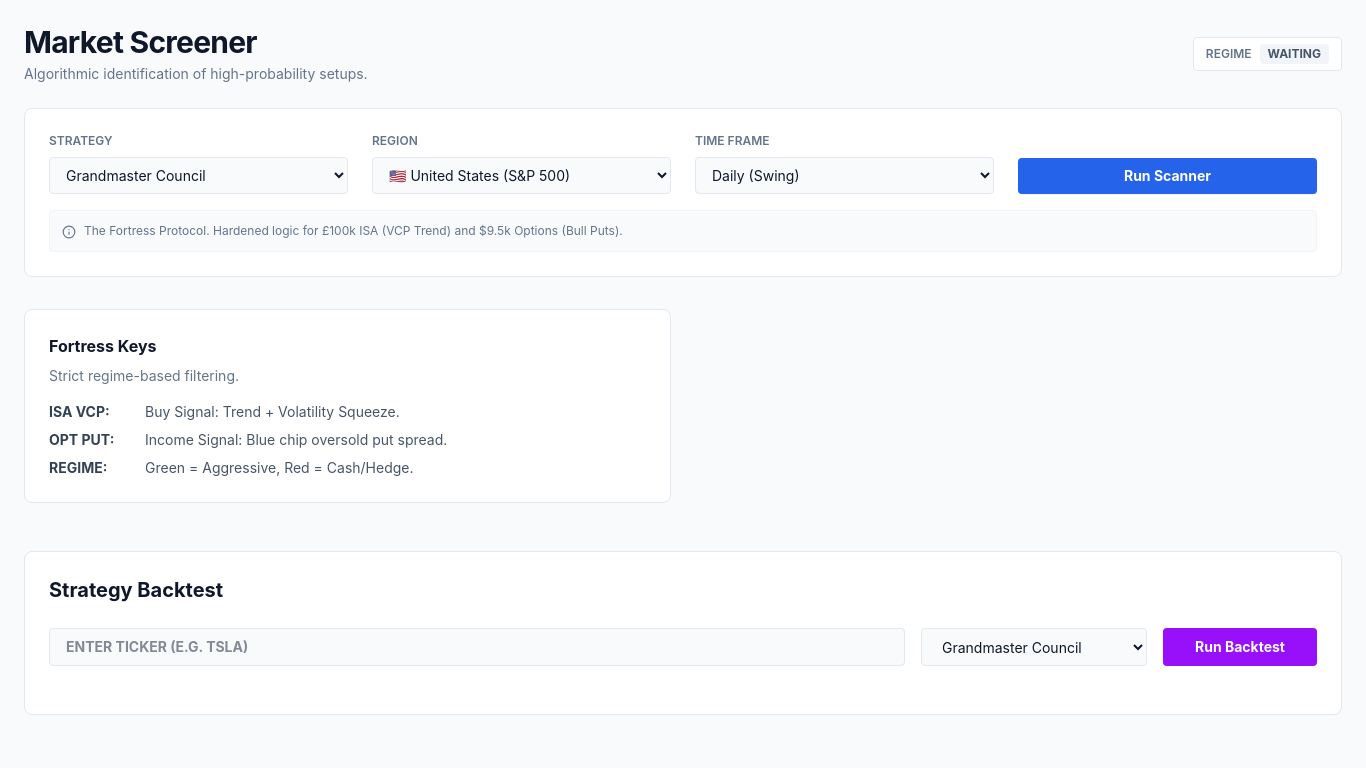
Screener Component › correctly formats UK prices as £ and divides by 100
Click the button "Run Scanner": click(1168, 176) [1018,158,1317,194]
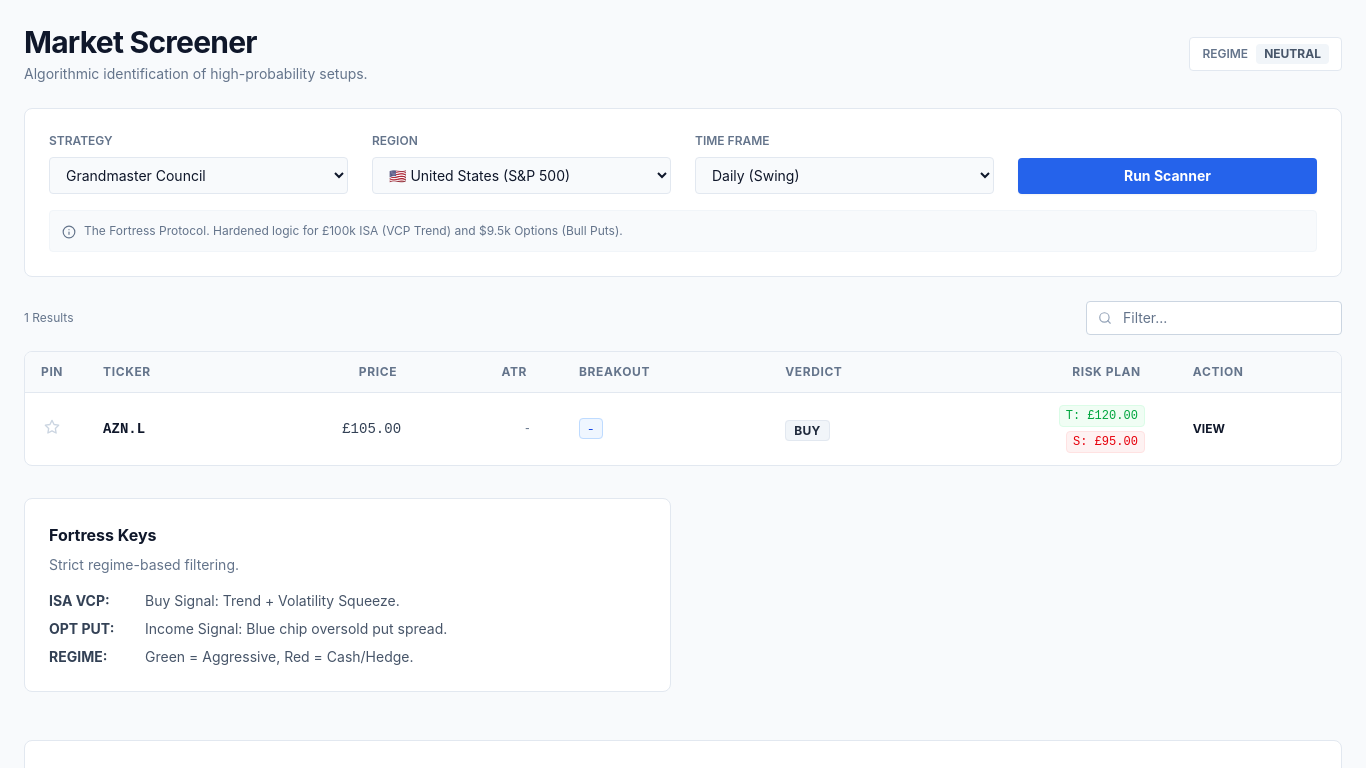
Expected: the text "AZN.L" is shown, [103,421,145,437]
Expected: the text "£105.00" is shown, [246,392,425,465]
Expected: the text "T: £120.00" is shown, [1059,405,1145,427]
